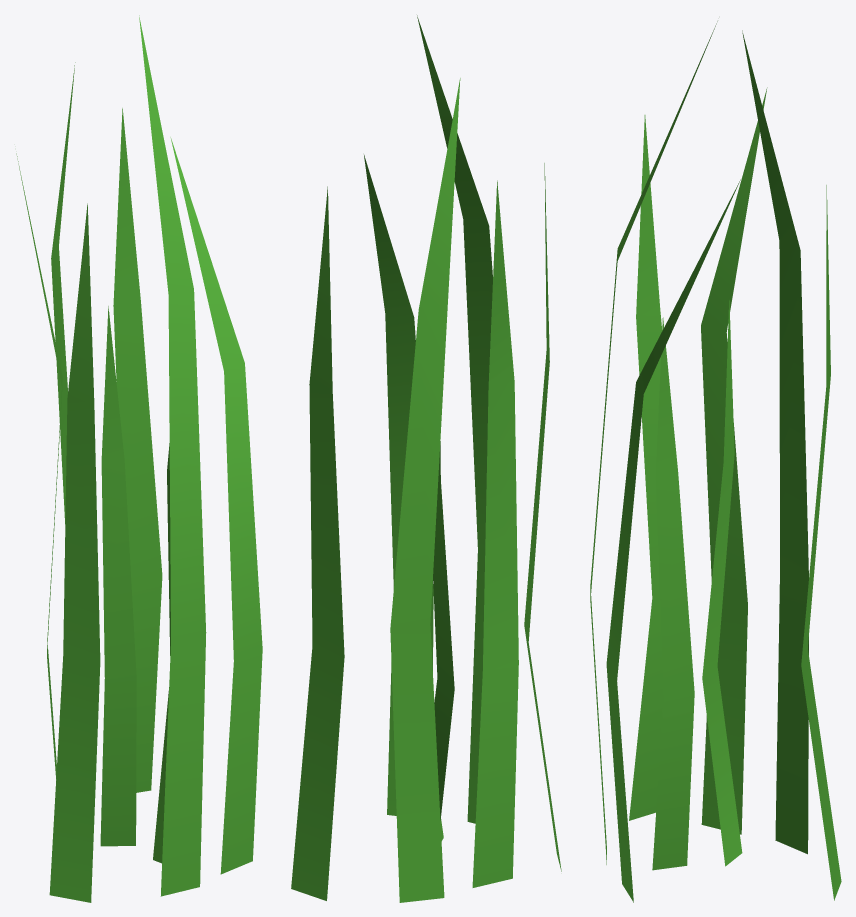
Rendered from Grass_14.fbx.
3 views of the same model, side by side, from view 1: azimuth 30°, elevation 25°; view 2: azimuth 150°, elevation 25°; view 3: azimuth 270°, elevation 25° (orthographic). The views are drawn at different scales.
Visible parts, largest first — view 1: Grass_14; view 2: Grass_14; view 3: Grass_14.
Part boxes in pixels (x1,y1,x2,y2): Grass_14: [16, 15, 262, 902]; Grass_14: [291, 15, 561, 902]; Grass_14: [590, 21, 841, 902].
Bounding box in the file's own units: 43.46 × 183 × 48.87.
